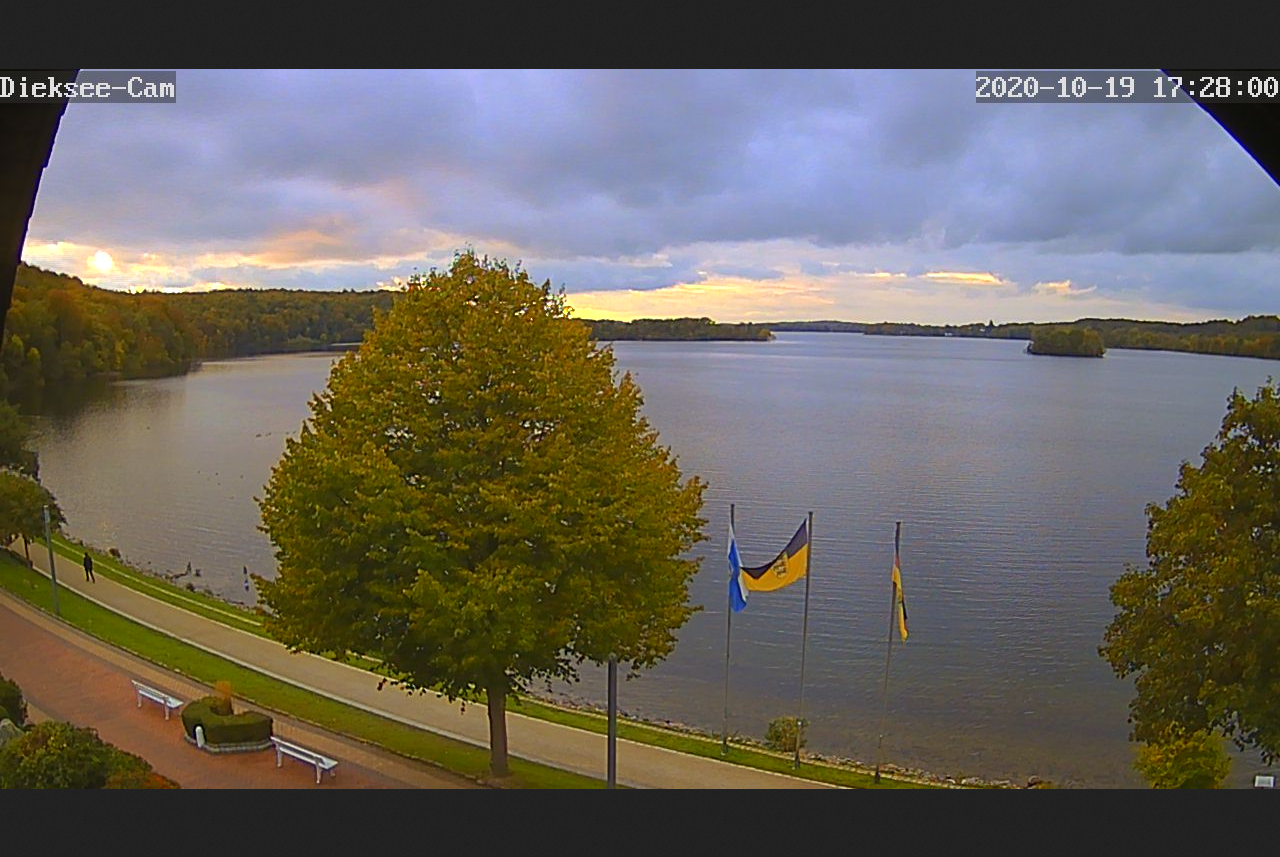maybe: (739, 524, 810, 594)
no: (889, 533, 913, 646), (721, 522, 750, 611)
